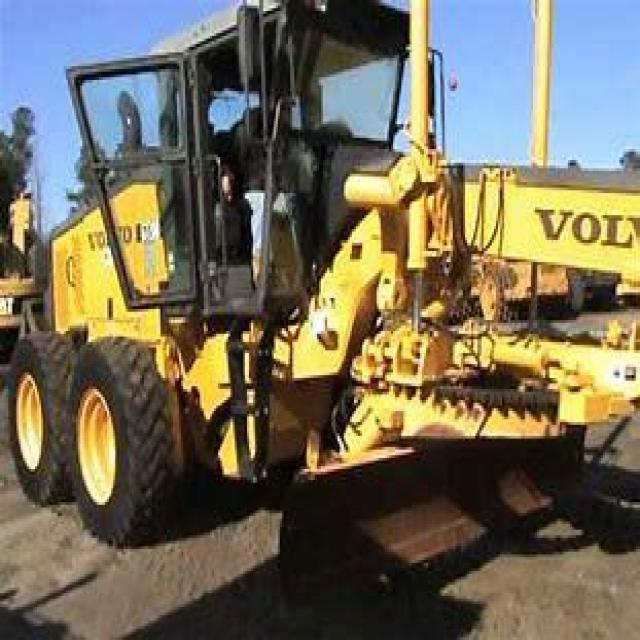buldozerpayloadergrader: (0, 0, 638, 549)
